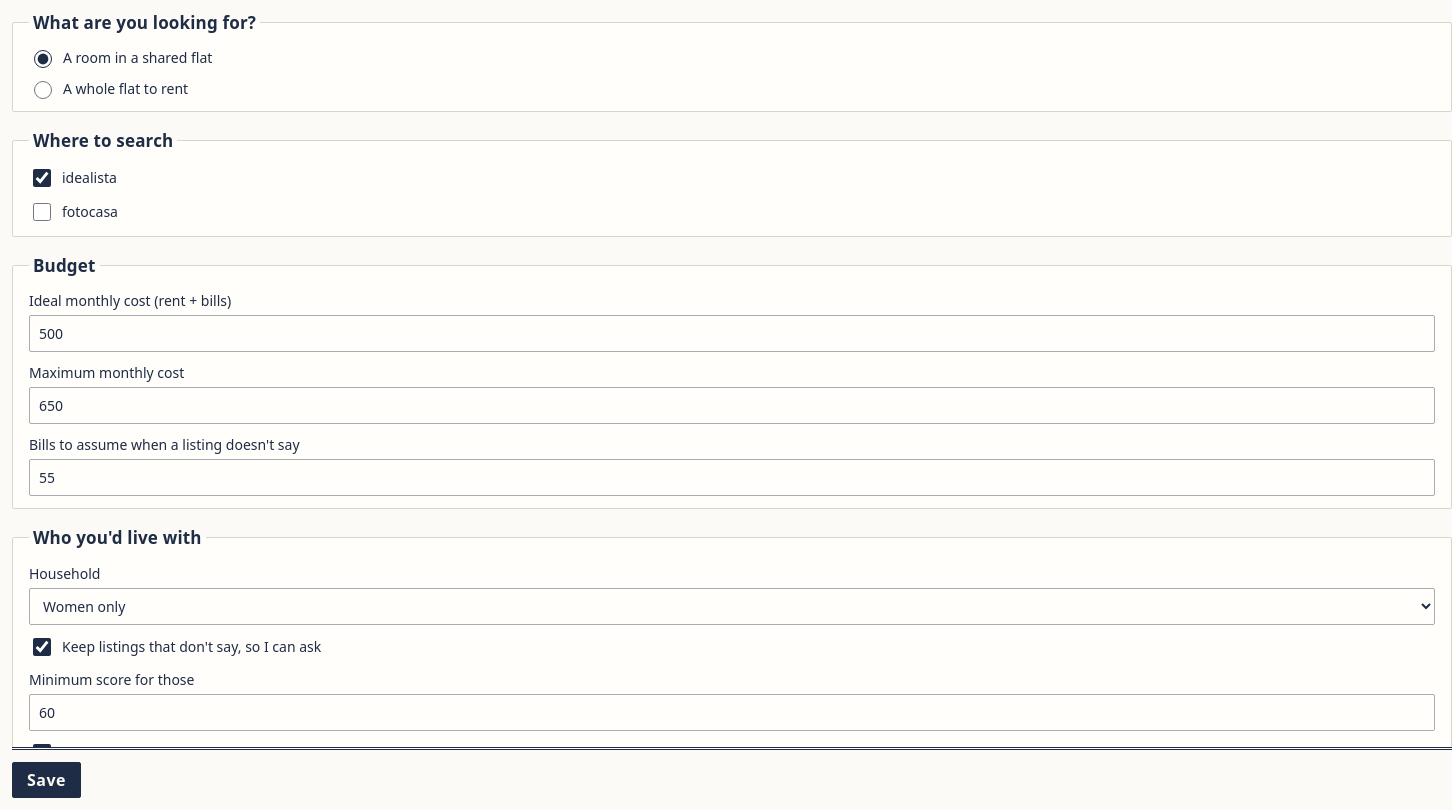
edits and saves the active profile
(page scrolled)
Replace the text in the number field labelled "Maximum monthly cost" with "700": (732, 406) [29, 387, 1435, 424]
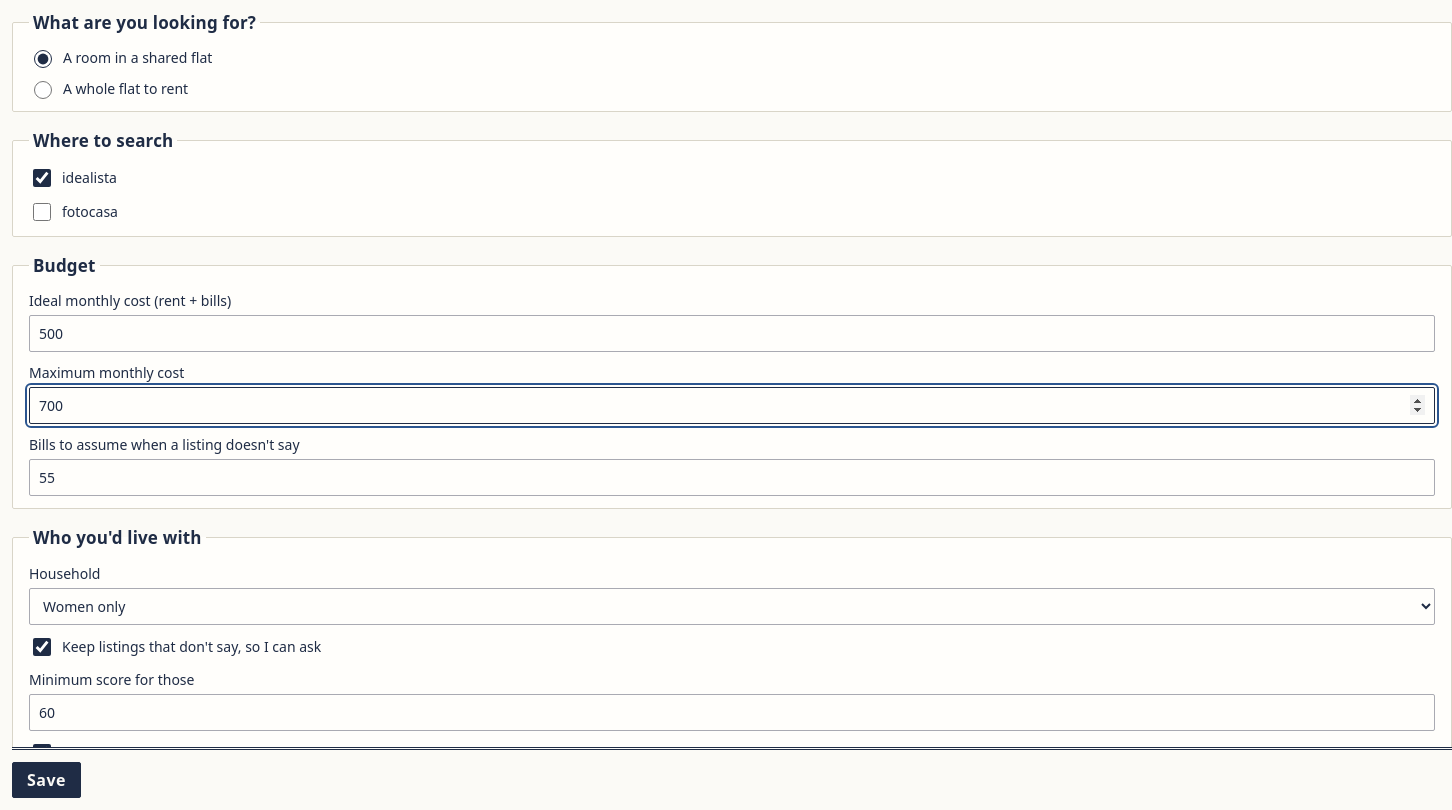
Click the button "Save": (46, 780) [12, 762, 81, 798]
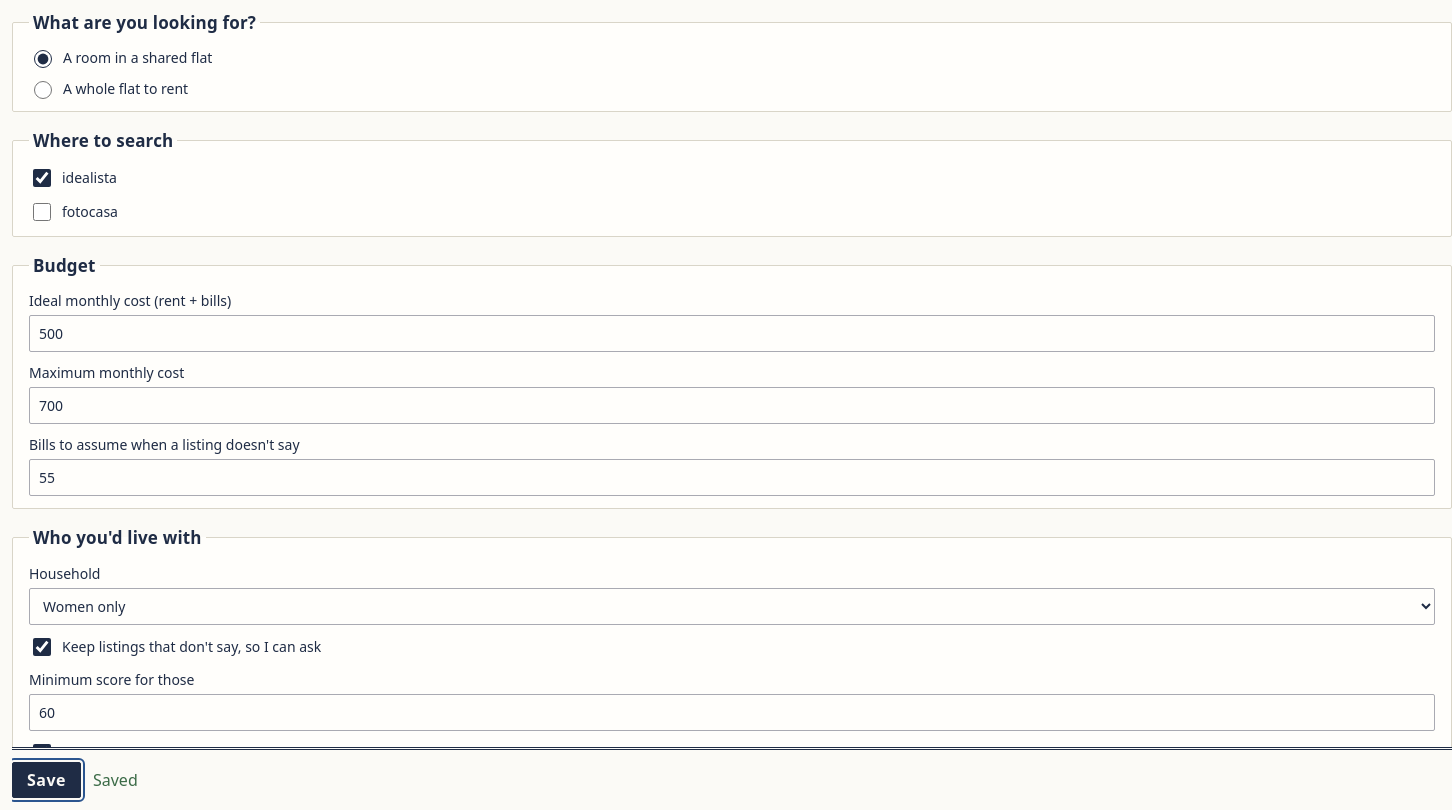
Result: the text "Saved" is shown at [93, 768, 138, 792]
